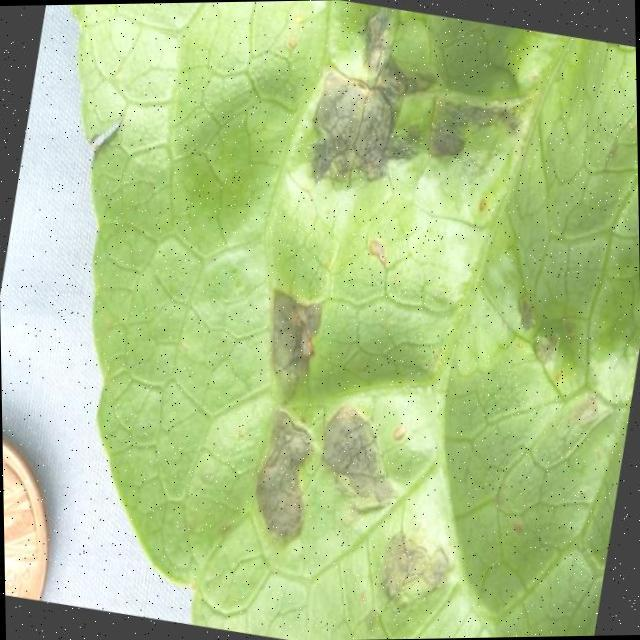Bacterial: (207, 4, 568, 639)
